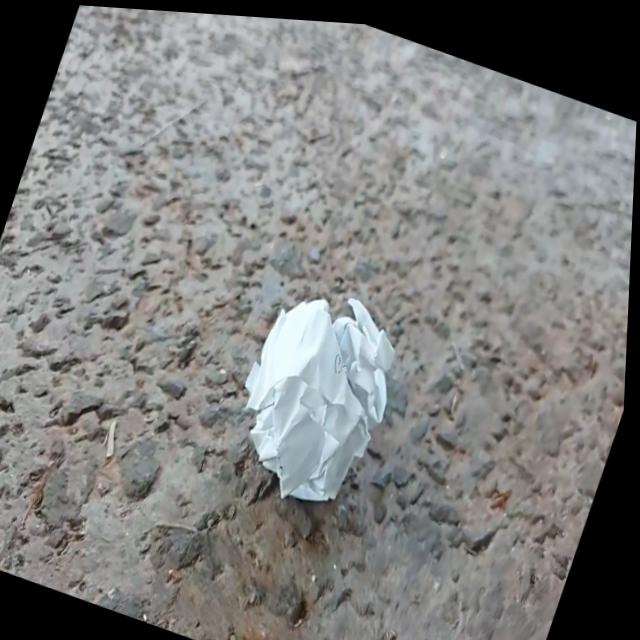paper: (246, 298, 393, 500)
